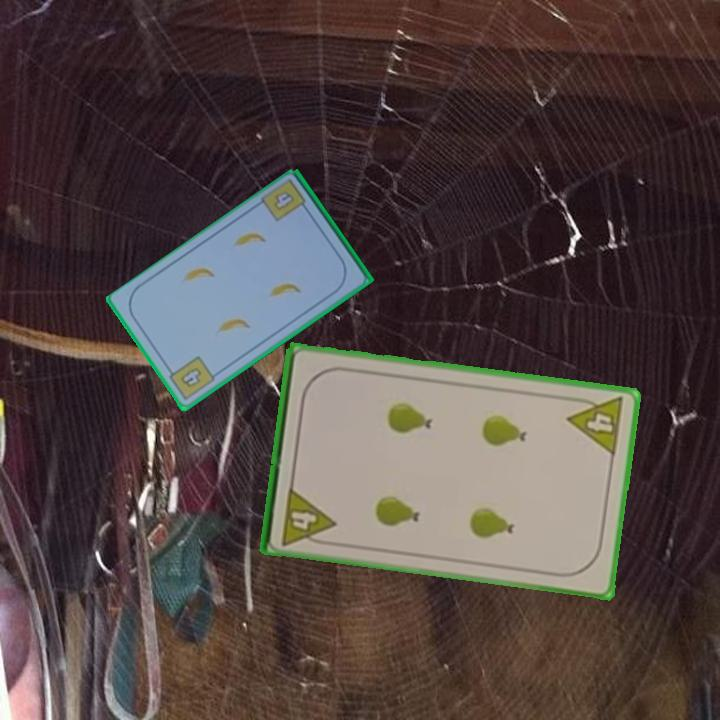4b: (163, 353, 218, 403), (270, 187, 298, 214)
4p: (564, 392, 627, 459), (278, 483, 338, 548)
